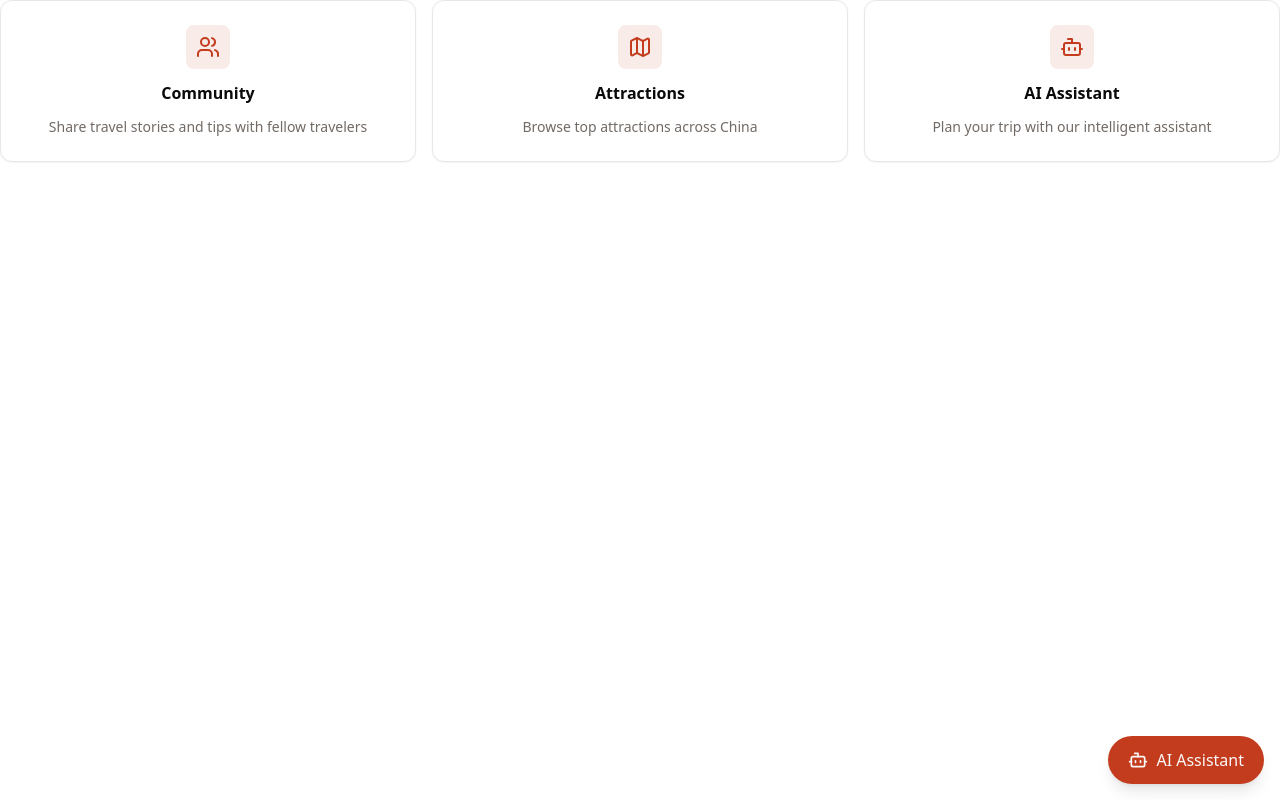
Scenario: AssistantPanel › closes on the close button while streaming and aborts the request
Click the button "AI Assistant" at (1186, 760), box [1108, 736, 1264, 784]
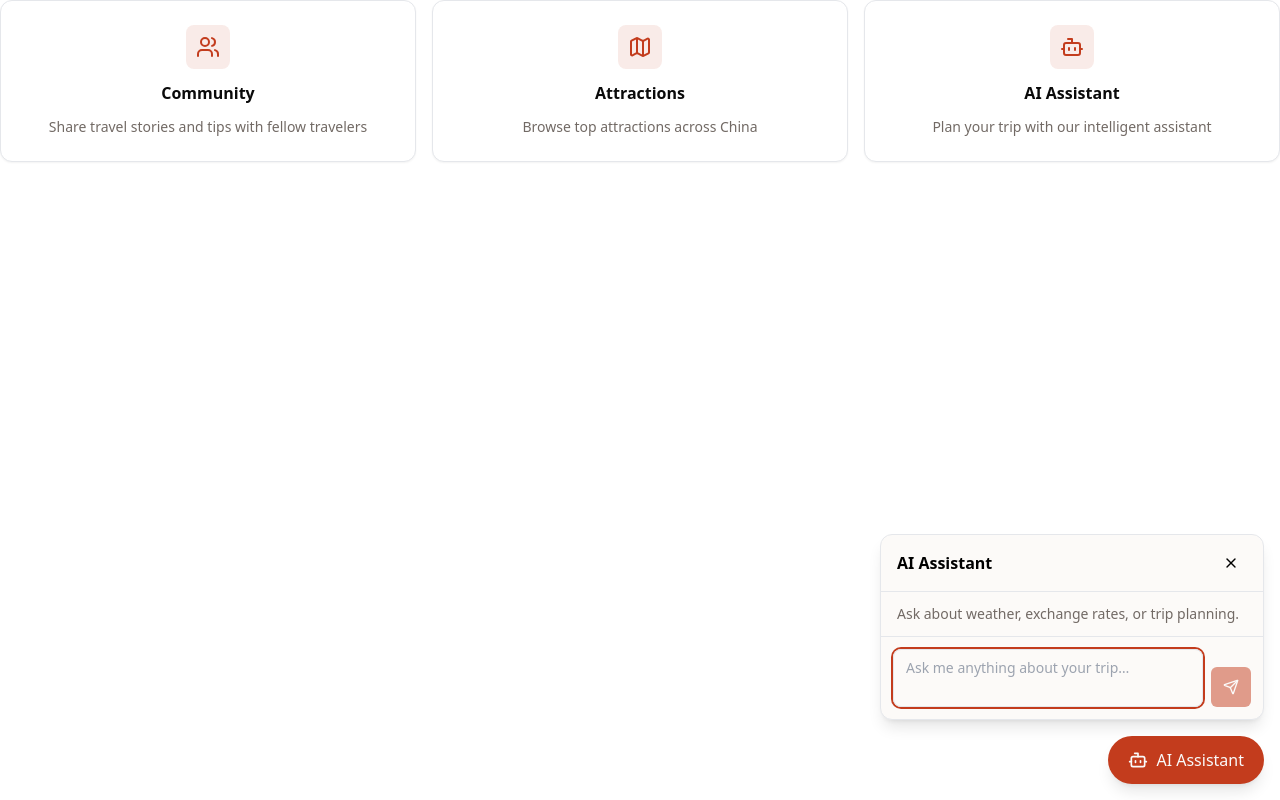
Type "Hi" into the text box named "Message" at (1048, 678), box [893, 649, 1203, 707]
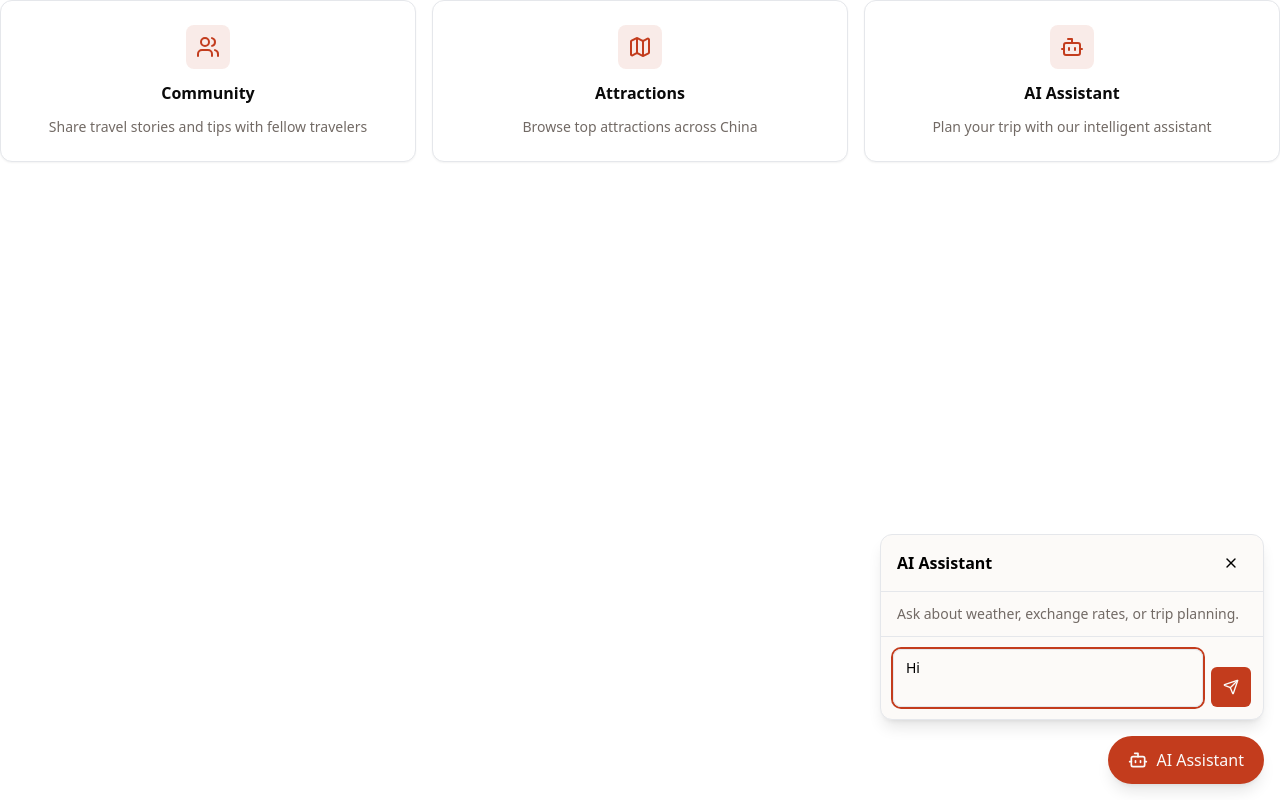
Click the button named "Send" at (1231, 687), box [1211, 667, 1251, 707]
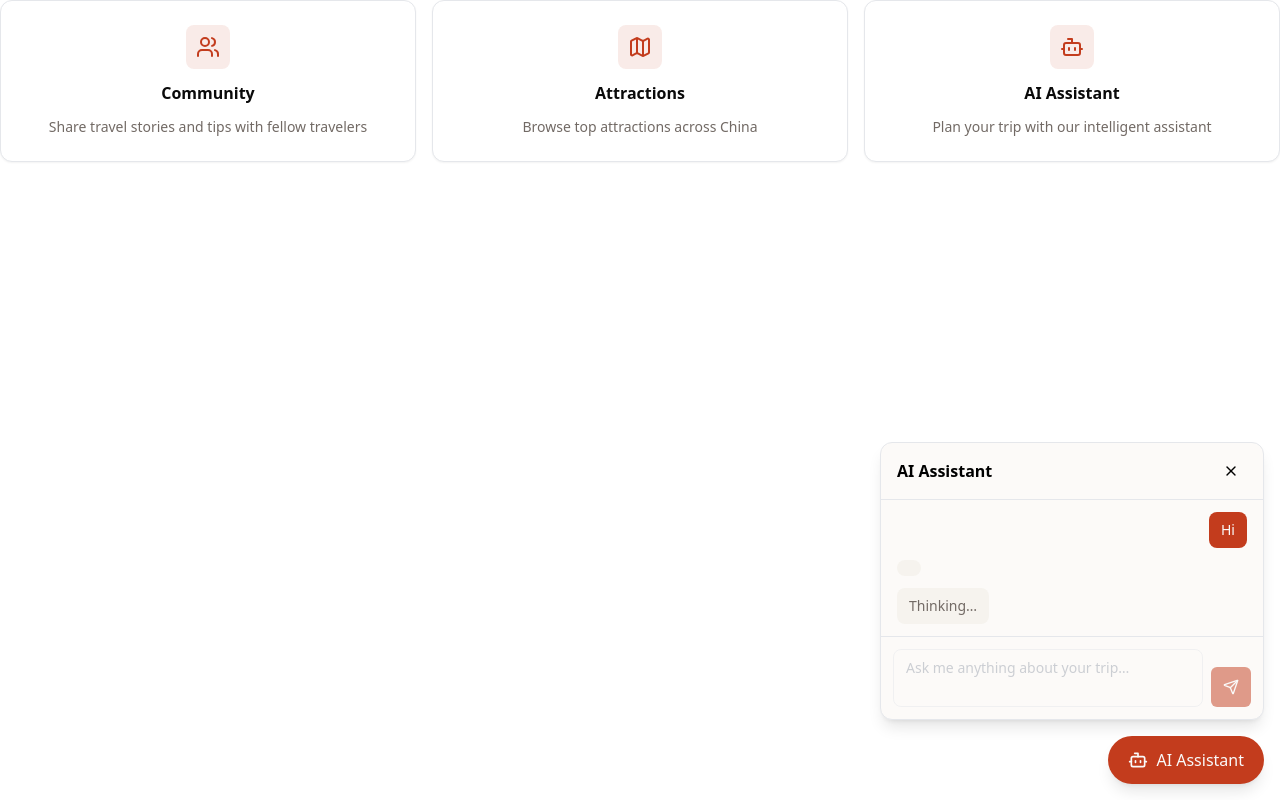
Click the button named "Close" at (1231, 471), box [1215, 455, 1247, 487]
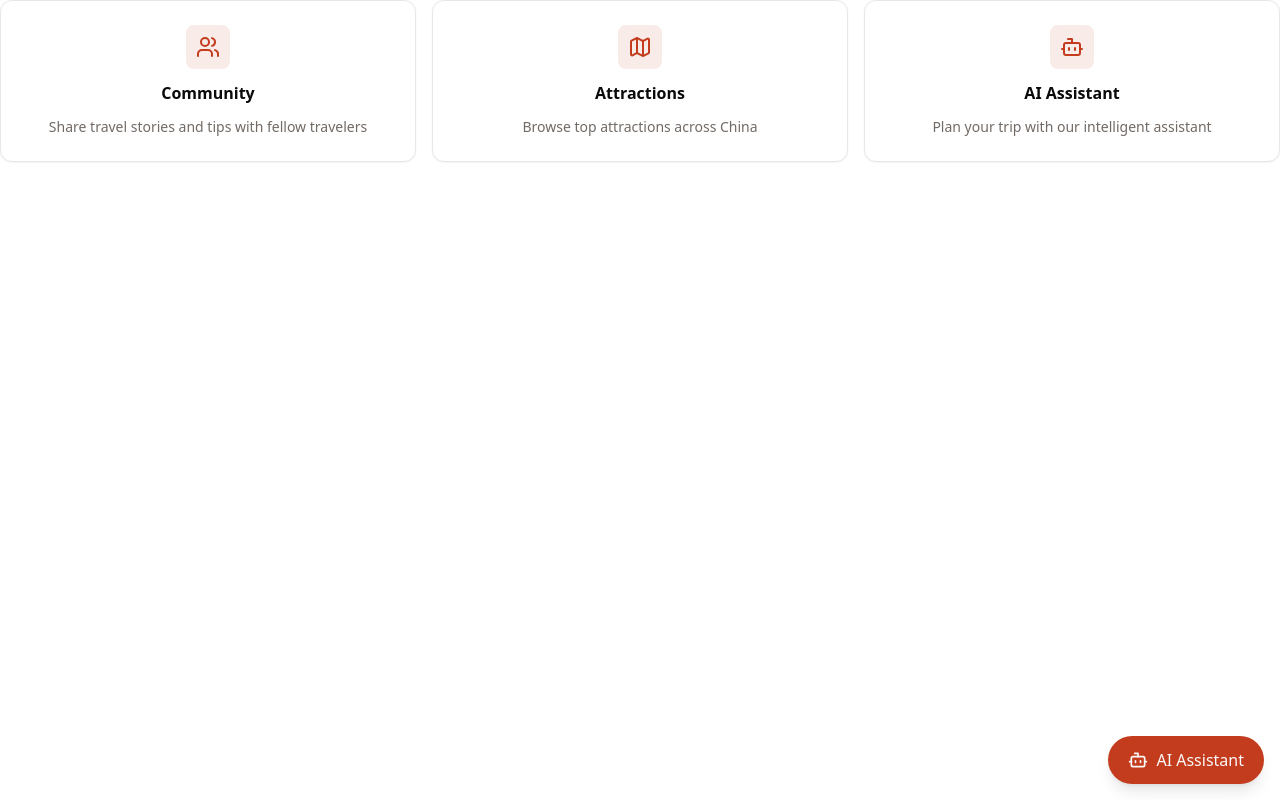
Expected: the dialog is gone
Click the button "AI Assistant" at (1186, 760), box [1108, 736, 1264, 784]
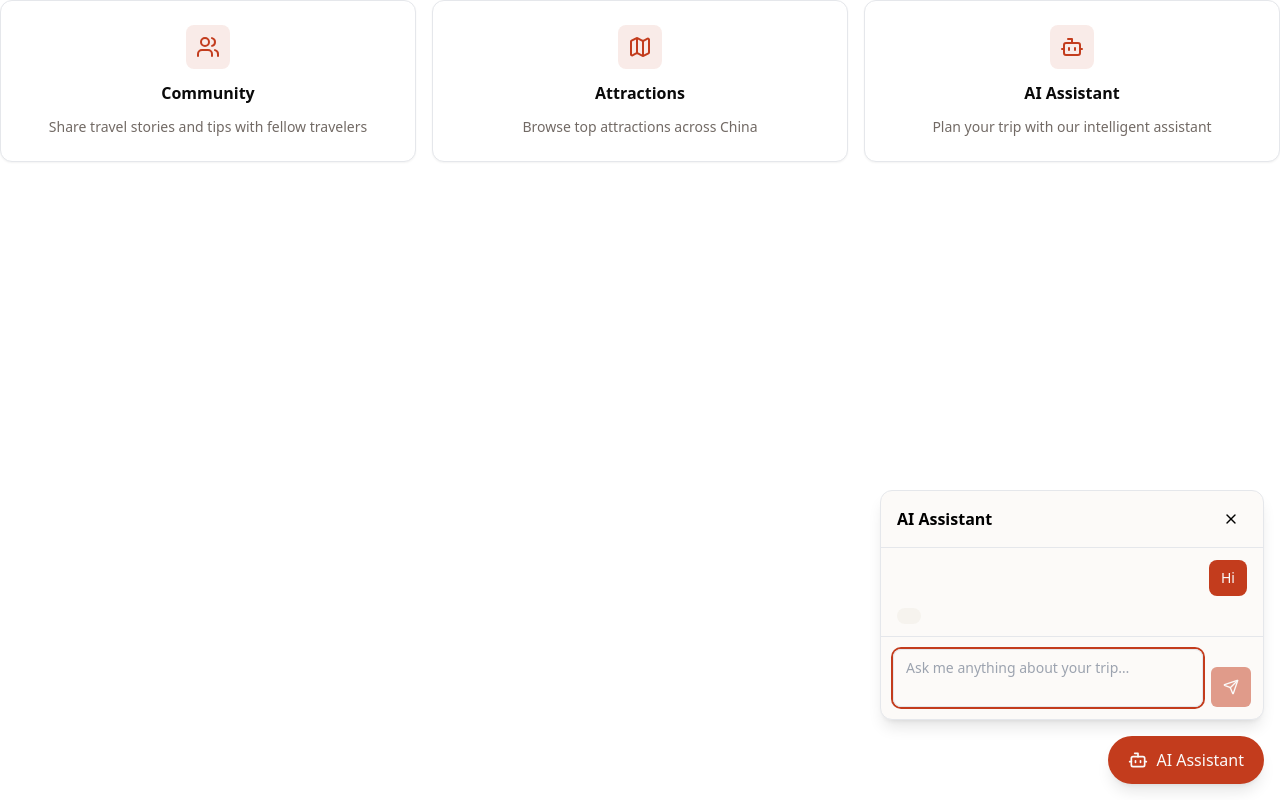
Expected: the text box named "Message" is enabled, [893, 649, 1203, 707]
